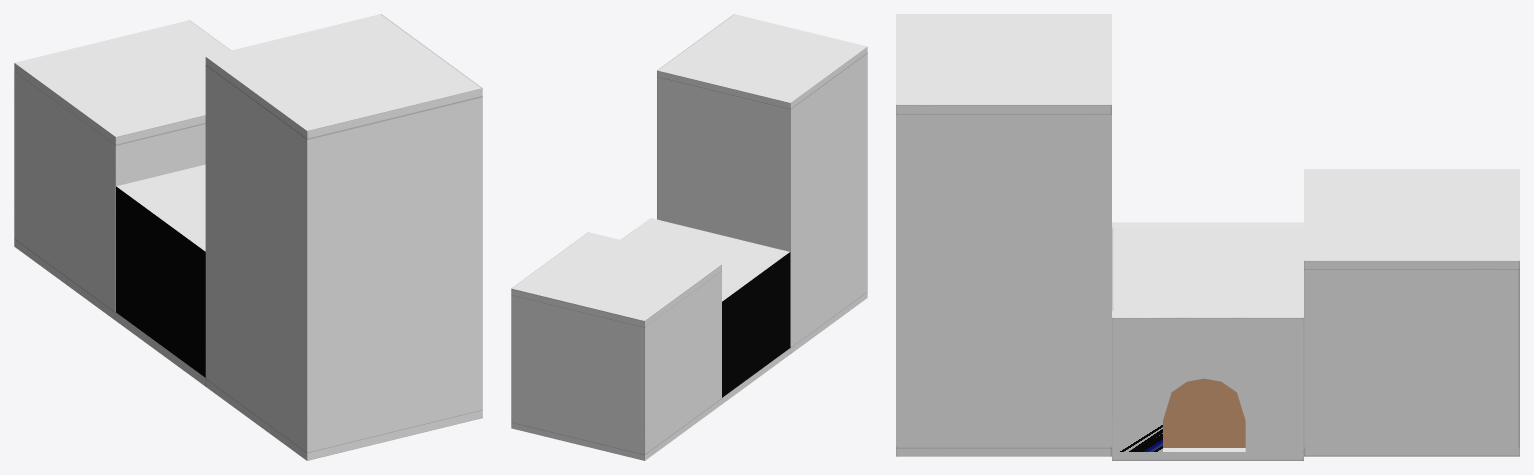
The model's file is room5 (1).fbx.
3 renders of one model, left to right at view 1: azimuth 30°, elevation 25°; view 2: azimuth 150°, elevation 25°; view 3: azimuth 270°, elevation 25°, orthographic. The views are drawn at different scales.
Visible parts, largest first — view 1: Cube.003; view 2: Cube.003; view 3: Cube.003.
Boxes of the visible parts, x1,y1,x2,y2 form: Cube.003: (14,14,482,460); Cube.003: (511,14,867,460); Cube.003: (896,14,1519,460).
Size of the model in its own units: 4658 by 7993 by 12860.
